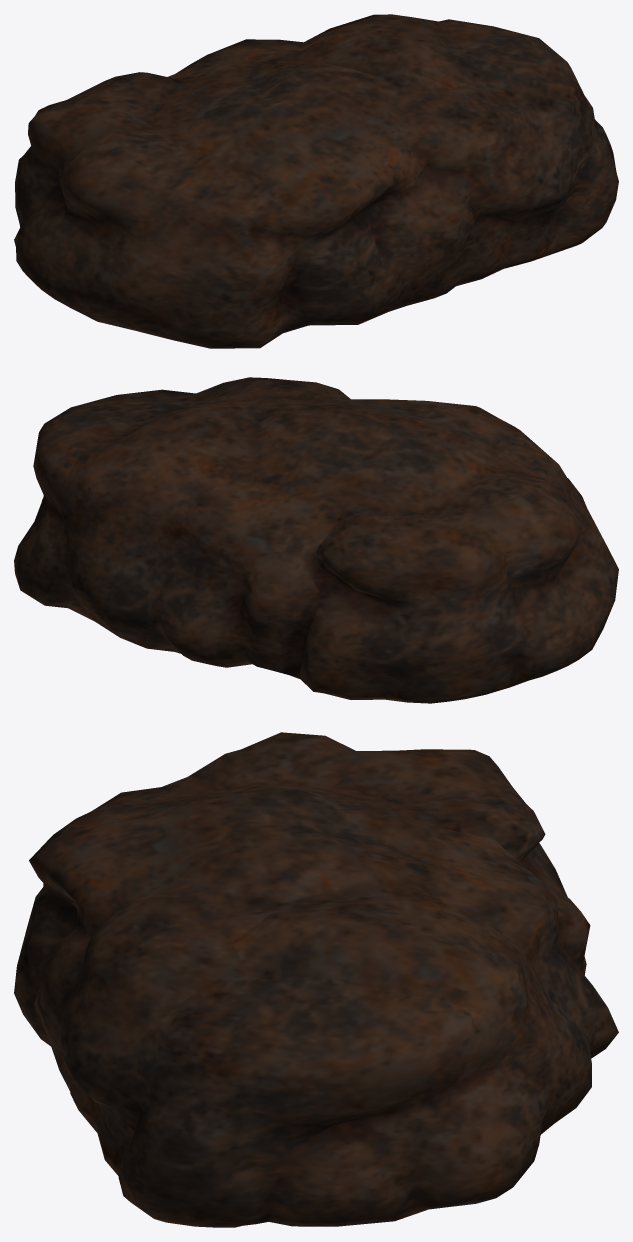
Rendered from sb_obj_nature006_Stone05d.fbx.
The picture shows the model from 3 angles, top to bottom: view 1: azimuth 30°, elevation 25°; view 2: azimuth 150°, elevation 25°; view 3: azimuth 270°, elevation 25°; orthographic projection. The views are drawn at different scales.
Visible parts, largest first — view 1: sb_obj_nature006_Stone05d; view 2: sb_obj_nature006_Stone05d; view 3: sb_obj_nature006_Stone05d.
Boxes of the visible parts, bbox=[...] form: sb_obj_nature006_Stone05d: bbox=[14, 14, 618, 348]; sb_obj_nature006_Stone05d: bbox=[14, 377, 618, 703]; sb_obj_nature006_Stone05d: bbox=[14, 732, 618, 1227].
Bounding box in the file's own units: 1.09 × 0.352 × 0.8086.
1 material, 1 textured.
